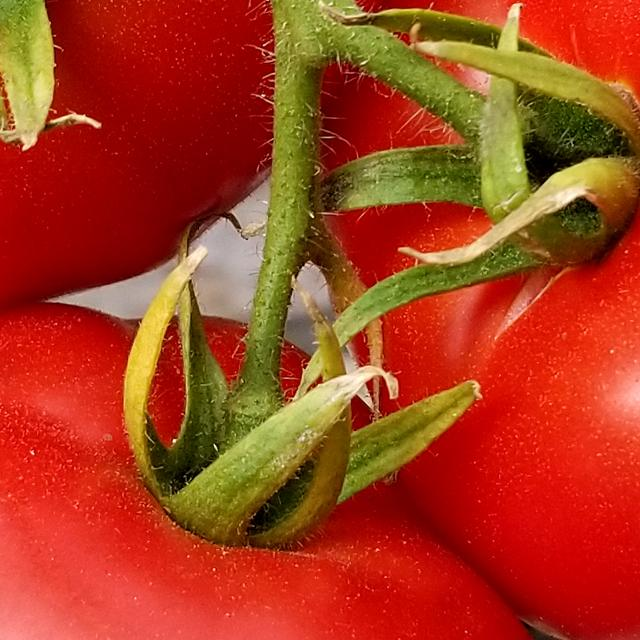tomato: (0, 304, 530, 640), (381, 195, 640, 640), (333, 204, 488, 282), (329, 98, 435, 154), (281, 268, 318, 394), (151, 321, 182, 444), (202, 316, 244, 380)
